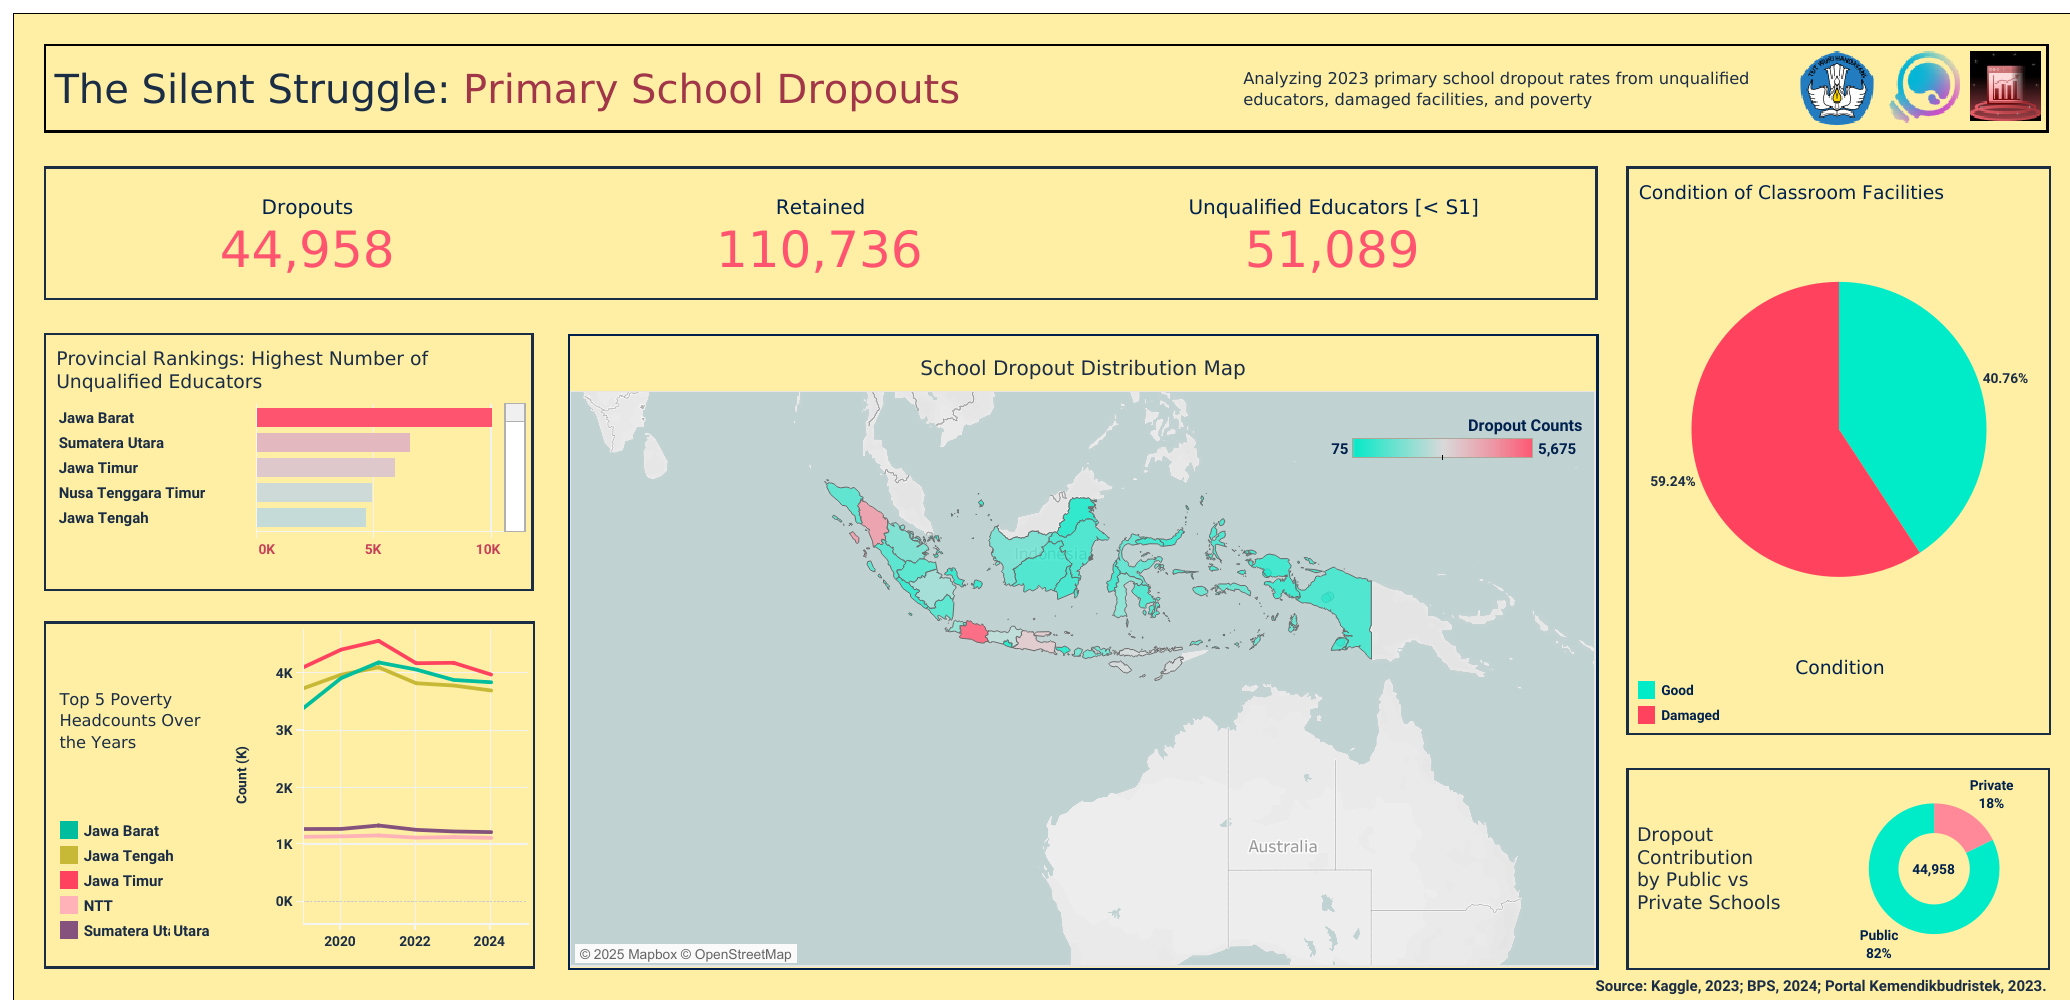

The page's visual inventory and layout, read from the dashboard file:
{"tool":"tableau","page":{"name":"dashboard fix","canvas":[1657,801],"ordinal":0},"visuals":[{"type":"text","box":[37,37,955,67]},{"type":"text","box":[992,37,444,67]},{"type":"image","param":"Image/Logo_of_Ministry_of_Education_and_Culture_of_Republic_of_Indonesia.svg.png","box":[1436,37,71,67]},{"type":"image","param":"Image/apple-touch-icon.png","box":[1507,37,65,67]},{"type":"image","param":"Image/WhatsApp Image 2024-10-02 at 21.26.20_8061ad24.jpg","box":[1572,37,65,67]},{"type":"worksheet","title":"kpi 1","mark":"Automatic","box":[37,135,1239,92]},{"type":"worksheet","title":"pie","mark":"Pie","box":[1303,135,336,379]},{"type":"worksheet","title":"map","mark":"Multipolygon","box":[453,266,827,511]},{"type":"worksheet","title":"column","mark":"Bar","rows":["Provinsi"],"cols":["Kepala Sekolah dan Guru(<S1)"],"box":[37,268,388,191]},{"type":"legend","title":"map","param":"[federated.06sww0w1qt7glm1aw4mt511bqtnt].[sum:Putus Sekolah (2023 - Sheet1.csv):","box":[1061,328,205,52]},{"type":"worksheet","title":"line","mark":"Automatic","rows":["Value"],"cols":["Year"],"box":[175,499,251,274]},{"type":"text","box":[41,503,130,147]},{"type":"legend","title":"pie","param":"[federated.06sww0w1qt7glm1aw4mt511bqtnt].[:Measure Names]","box":[1303,514,336,72]},{"type":"text","box":[1303,616,154,158]},{"type":"worksheet","title":"donut 1","mark":"Pie","rows":["Calculation_2165105587147464708","Calculation_2165105587147493382"],"box":[1457,616,181,158]},{"type":"legend","title":"line","param":"[federated.11tkm8e0krsspq1ezdz7q0rligt5].[none:Provinsi:nk]","box":[41,650,130,108]},{"type":"text","box":[132,726,54,36]},{"type":"text","box":[931,773,709,30]}]}

Visuals, with their boxes in screenshot pixels (x1, y1, x2, y2), scaled from the page's 1657x801 canvas onto the 2070x1000 screenshot:
text: l=46, t=46, r=1239, b=130
text: l=1239, t=46, r=1794, b=130
image: l=1794, t=46, r=1883, b=130
image: l=1883, t=46, r=1964, b=130
image: l=1964, t=46, r=2045, b=130
"kpi 1" worksheet: l=46, t=169, r=1594, b=283
"pie" worksheet (Pie marks): l=1628, t=169, r=2048, b=642
"map" worksheet (Multipolygon marks): l=566, t=332, r=1599, b=970
"column" worksheet (Bar marks): l=46, t=335, r=531, b=573
"map" legend: l=1325, t=409, r=1582, b=474
"line" worksheet: l=219, t=623, r=532, b=965
text: l=51, t=628, r=214, b=811
"pie" legend: l=1628, t=642, r=2048, b=732
text: l=1628, t=769, r=1820, b=966
"donut 1" worksheet (Pie marks): l=1820, t=769, r=2046, b=966
"line" legend: l=51, t=811, r=214, b=946
text: l=165, t=906, r=232, b=951
text: l=1163, t=965, r=2049, b=999
